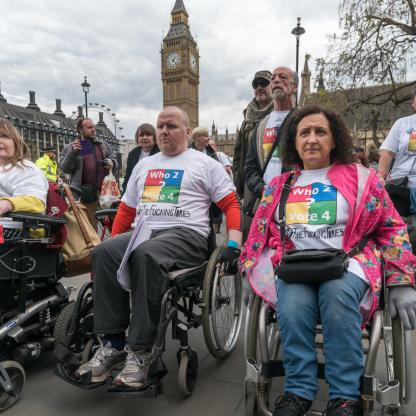wheelchair: (62, 105, 246, 403), (244, 106, 416, 416), (0, 119, 91, 408)
